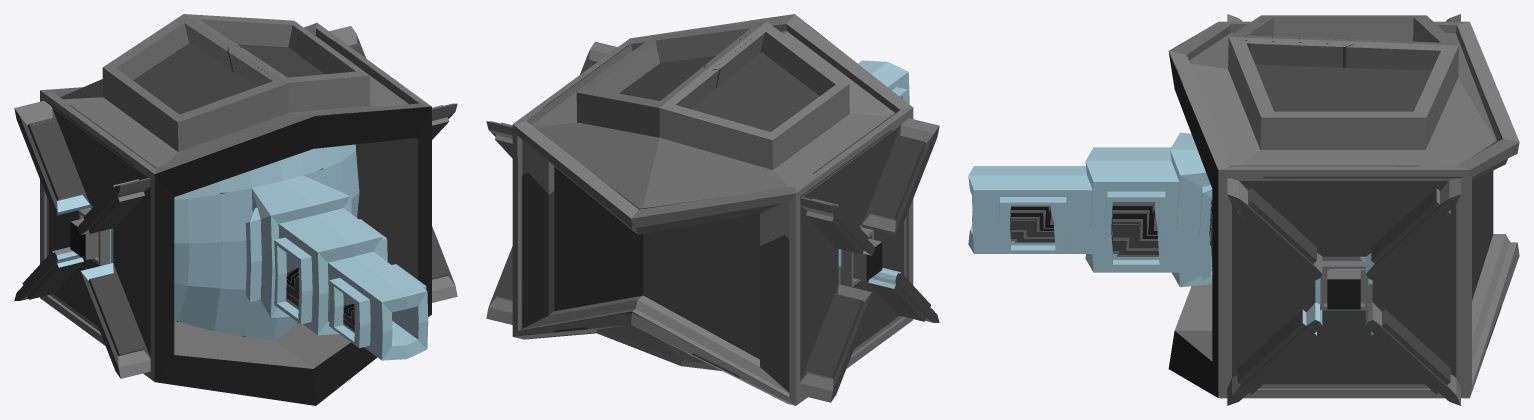
The model's file is Blaster.fbx.
3 views of the same model, side by side, from view 1: azimuth 30°, elevation 25°; view 2: azimuth 150°, elevation 25°; view 3: azimuth 270°, elevation 25° (orthographic). The views are drawn at different scales.
Parts seen in each view (by area): view 1: Model; view 2: Model; view 3: Model.
Part boxes in pixels (x1,y1,x2,y2): Model: (14, 14, 457, 405); Model: (486, 14, 939, 405); Model: (968, 14, 1519, 405).
Bounding box in the file's own units: 2.43 × 2.09 × 3.14.
